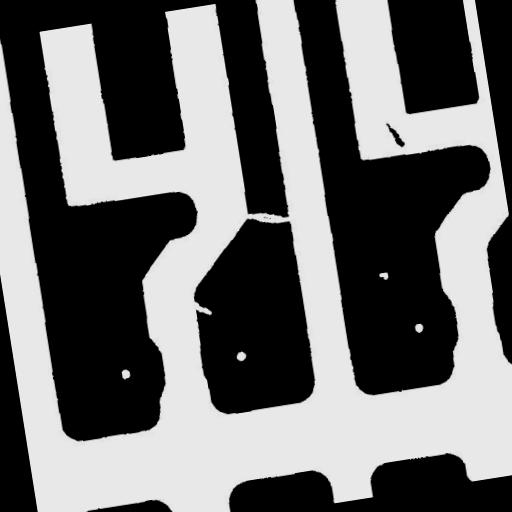copper: (376, 112, 413, 156)
mousebite: (179, 290, 220, 326)
open: (234, 198, 300, 236)
pin-hole: (370, 262, 396, 288)
